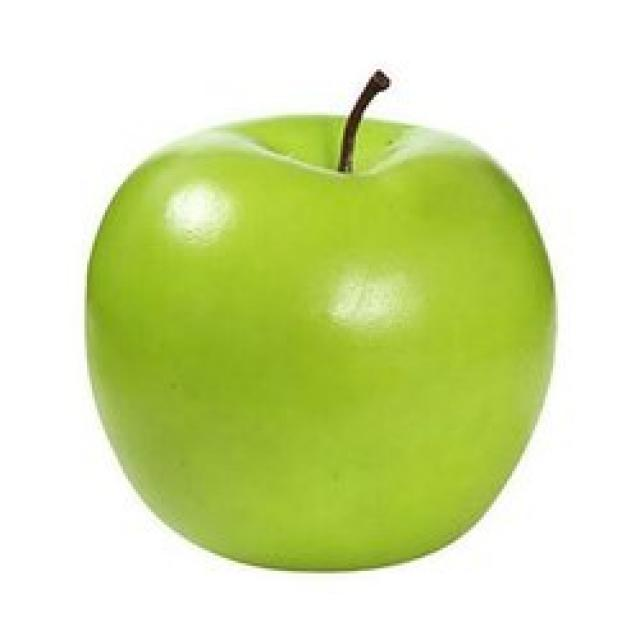apple: (77, 64, 566, 579)
